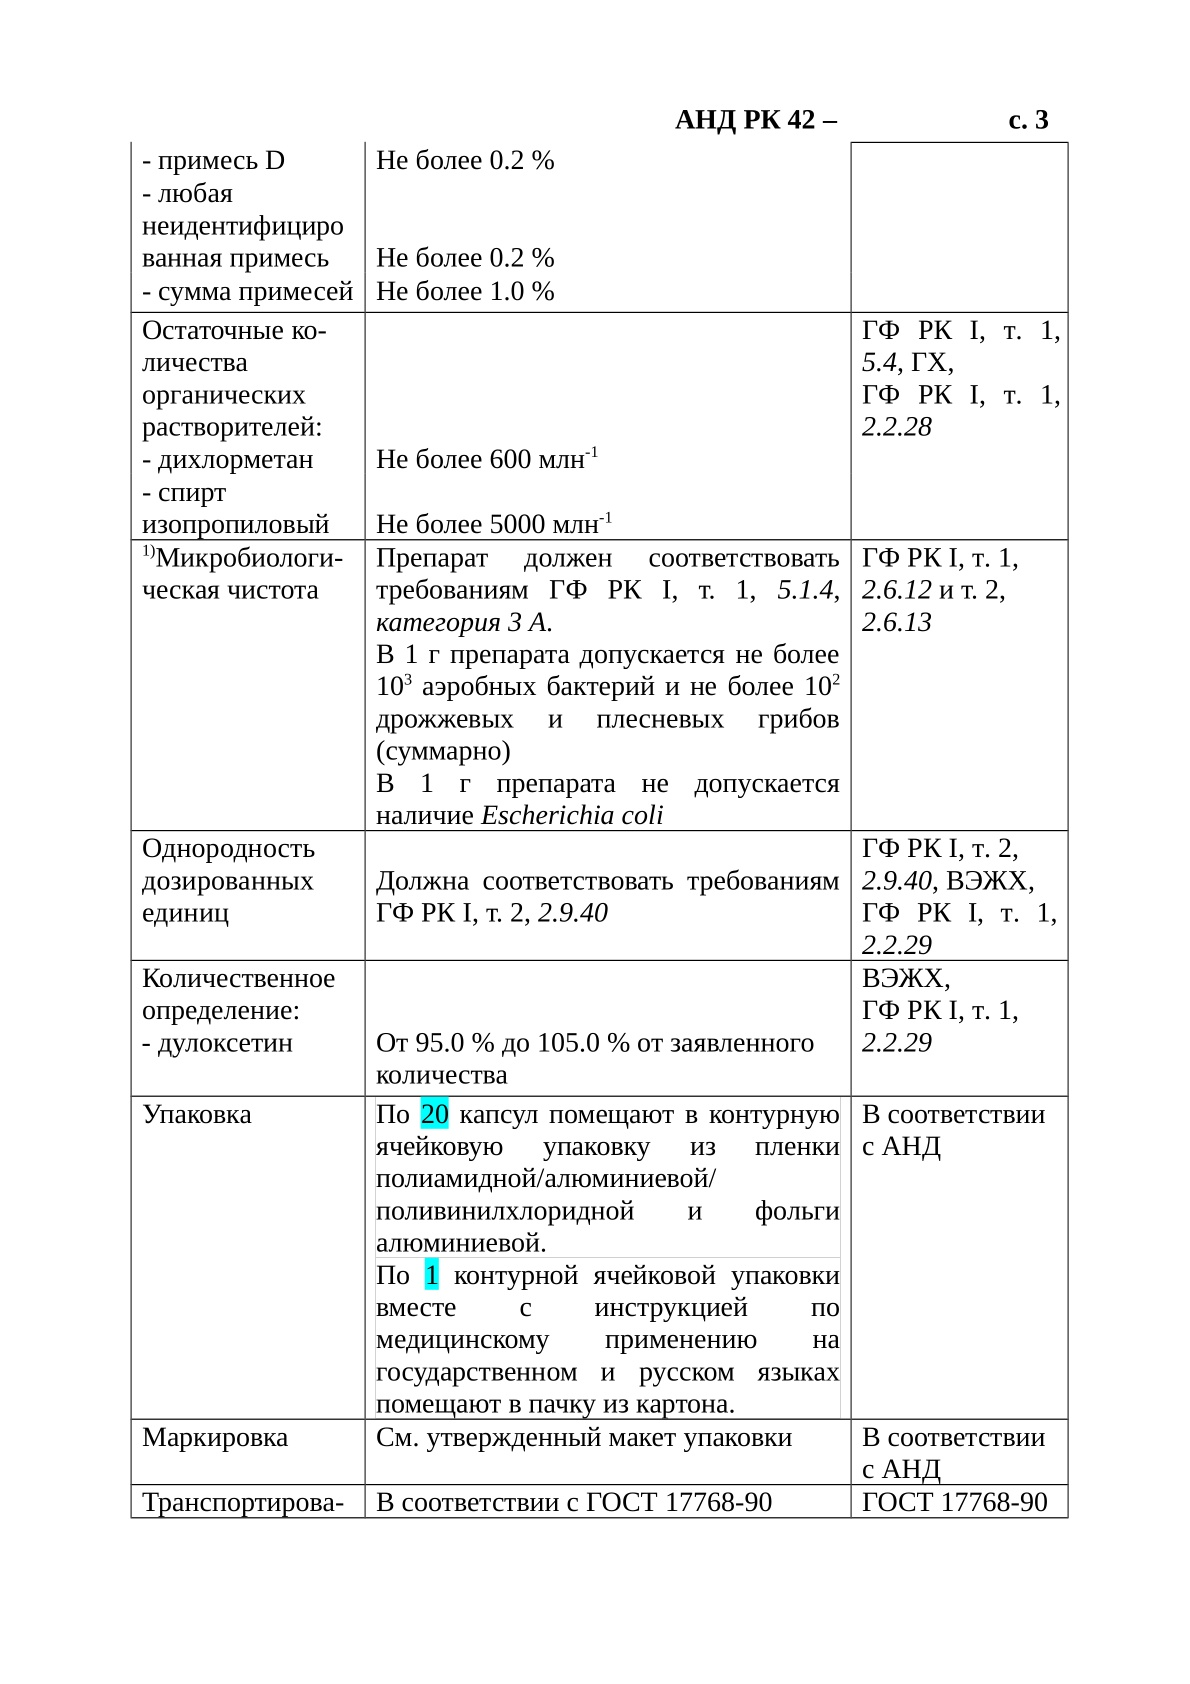full_lined: (127, 140, 1070, 1520)
